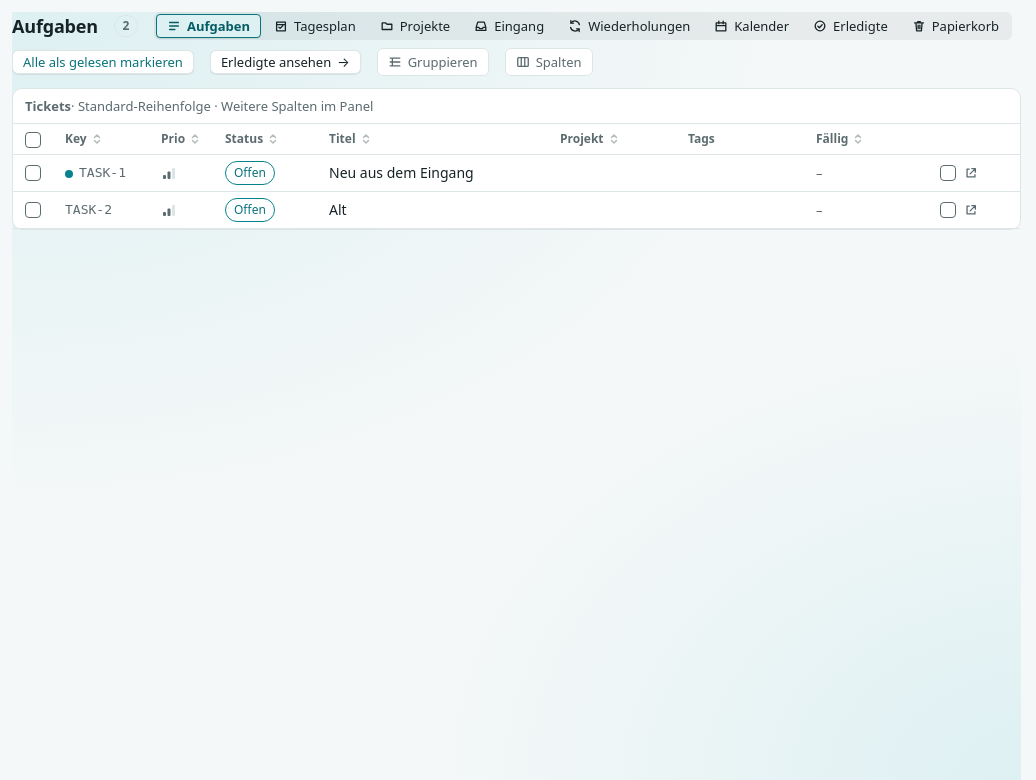
Test: ticket table: new (E4 plan, package 4) › marks new rows and offers "Alle als gelesen markieren"
The image size is (1036, 780).
Check: the element with class "new-dot" is shown, box top-left (65, 170), bottom-right (73, 178)
Click the button named "Alle als gelesen markieren, 1 neues Ticket".
click(103, 62)  # box top-left (12, 50), bottom-right (194, 74)
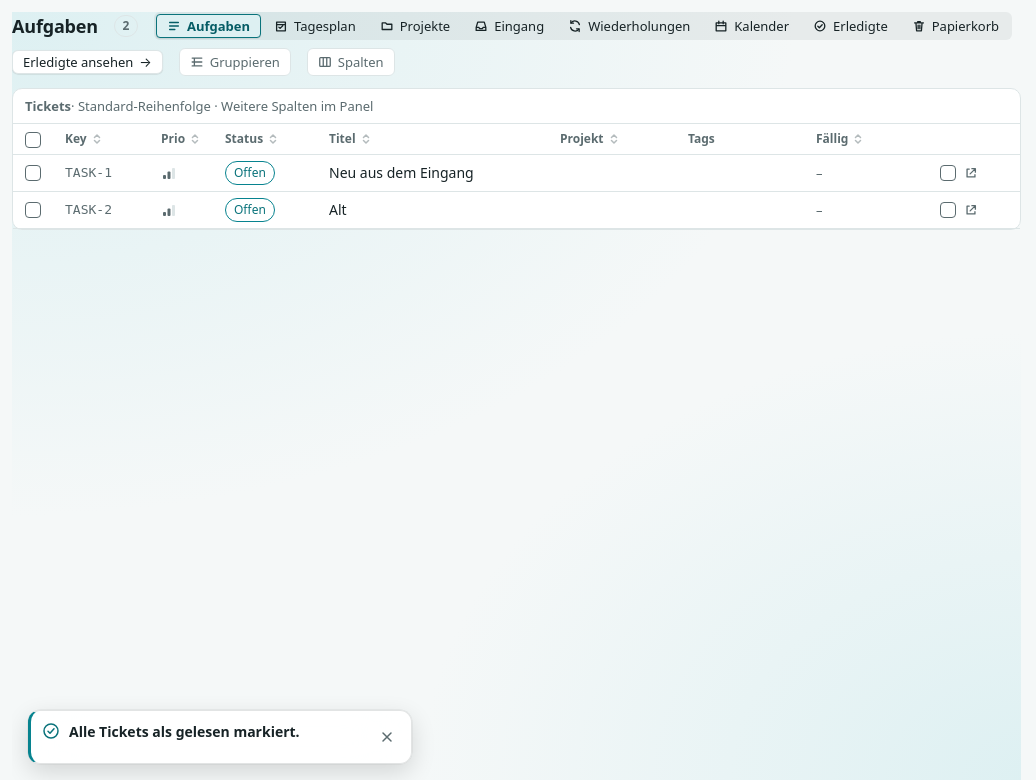
Check: the element with class "new-dot" is gone
Check: the button "Alle als gelesen markieren" is gone
Check: the list item reads "Alle Tickets als gelesen markiert.", box top-left (69, 722), bottom-right (300, 741)
